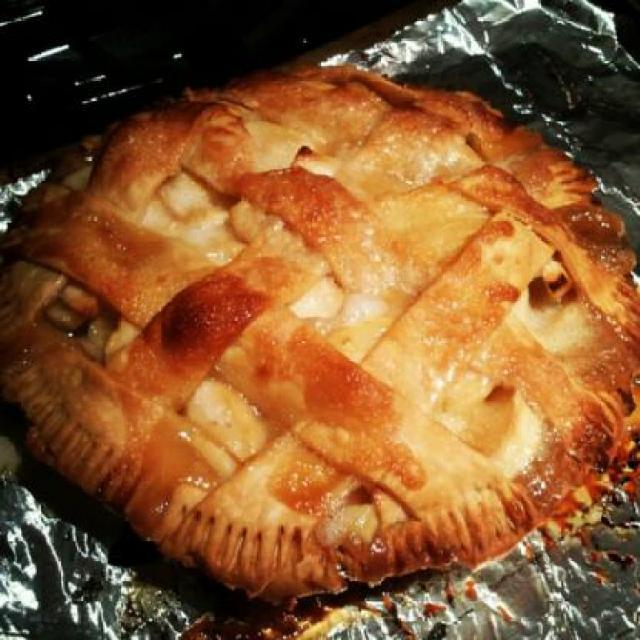Apple: (14, 70, 638, 573)
